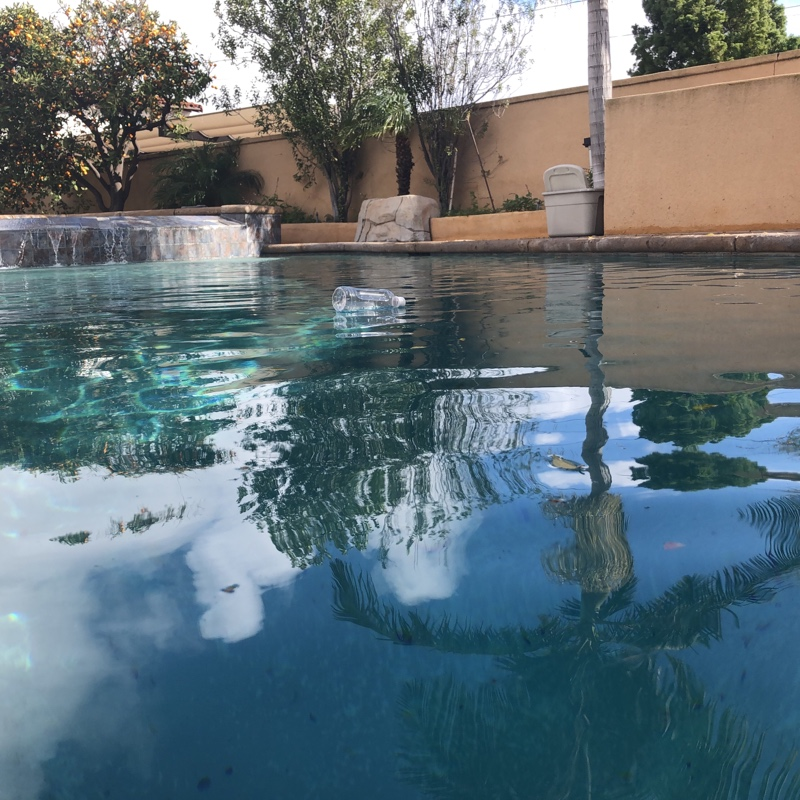Plastic Bottle: (328, 283, 412, 317)
